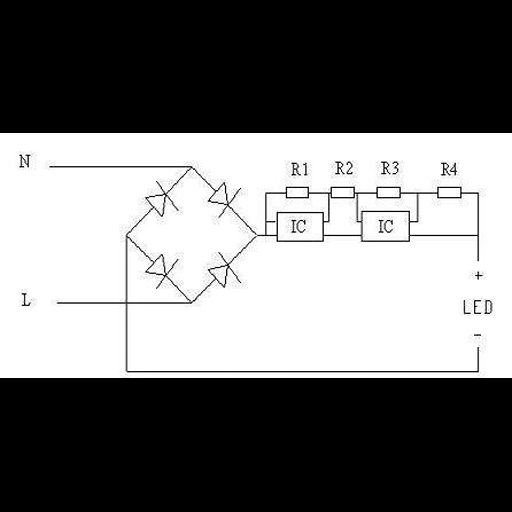firstresistance: (371, 183, 405, 201), (281, 184, 314, 201), (433, 184, 466, 200), (330, 183, 357, 201)
rectifierbridge: (126, 167, 258, 304)
